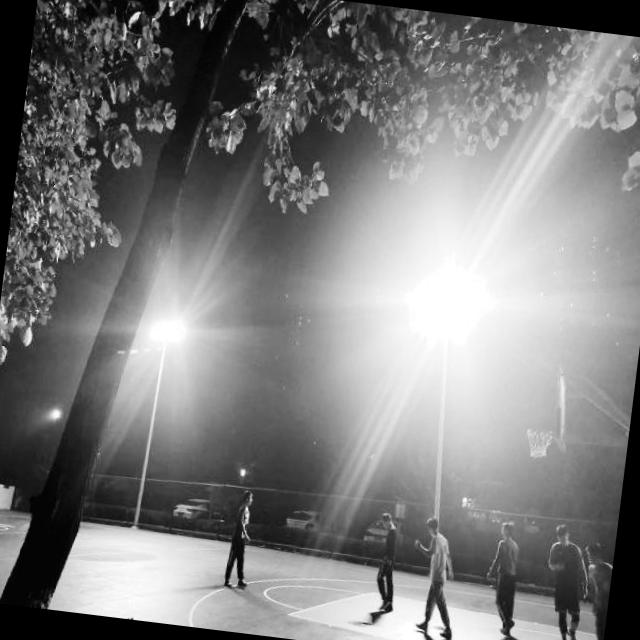Light: (372, 220, 498, 579), (116, 303, 202, 522)
Tree: (0, 0, 257, 625)
